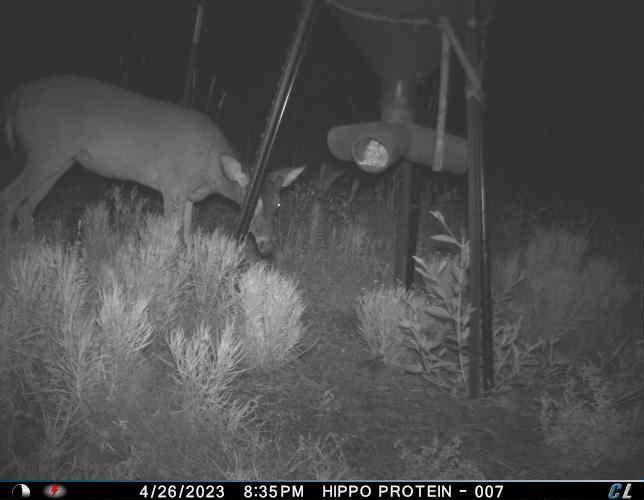Deer: (0, 67, 306, 258)
